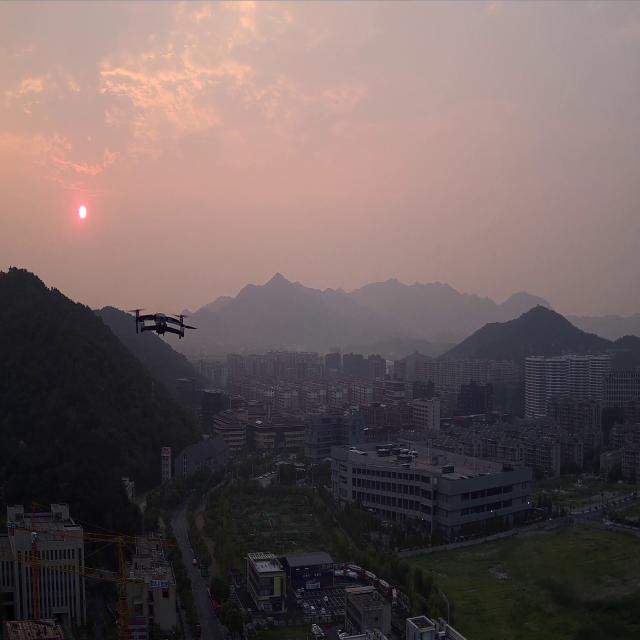UAV: (126, 307, 200, 340)
